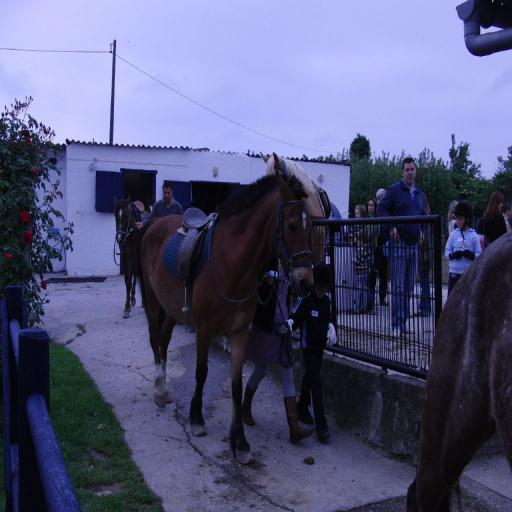horse: (142, 167, 314, 468), (404, 230, 512, 512), (260, 152, 326, 340), (112, 191, 148, 322)
